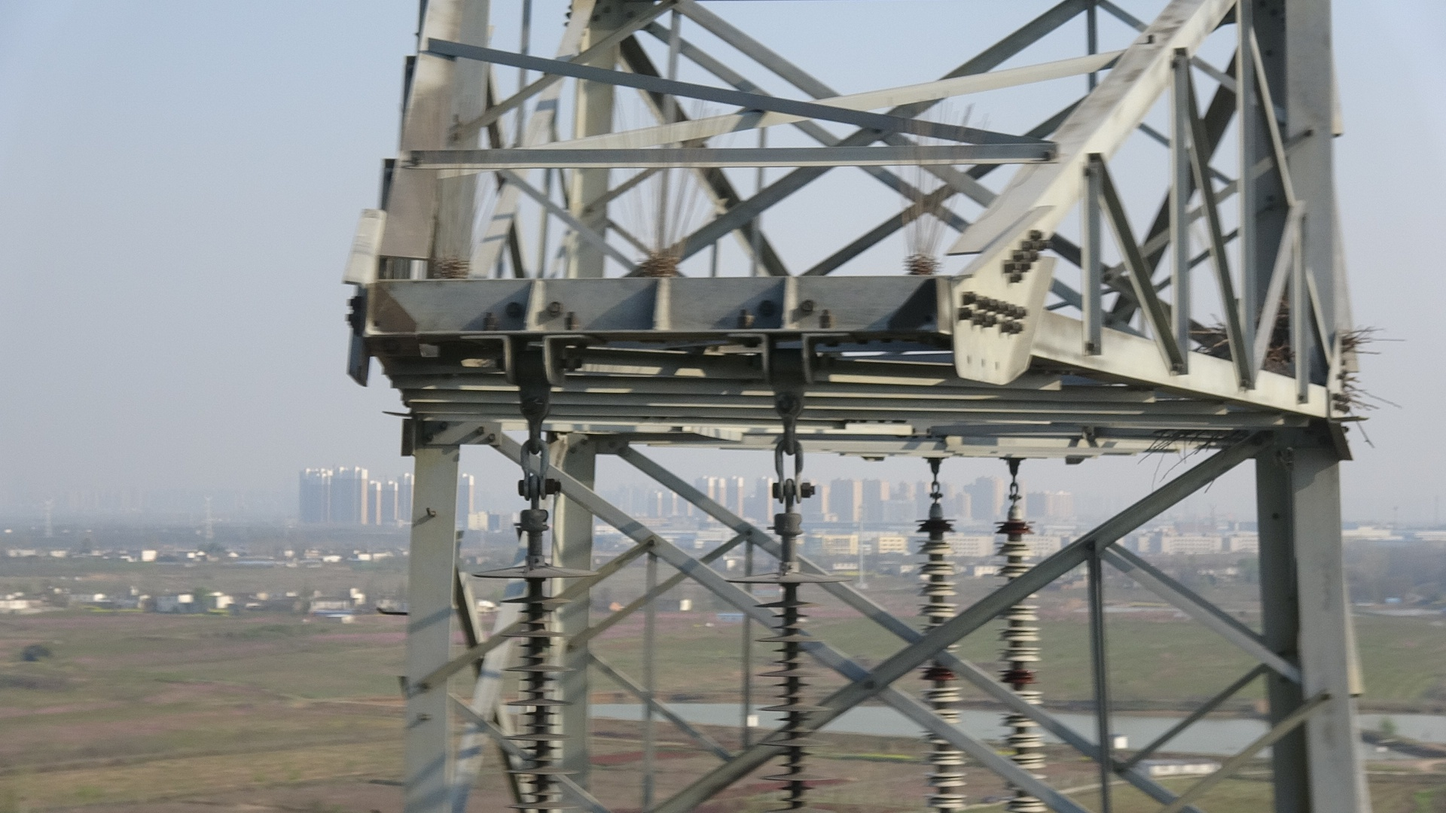insulator: (492, 585, 581, 813), (750, 594, 838, 813), (992, 536, 1054, 813), (914, 537, 974, 813)
